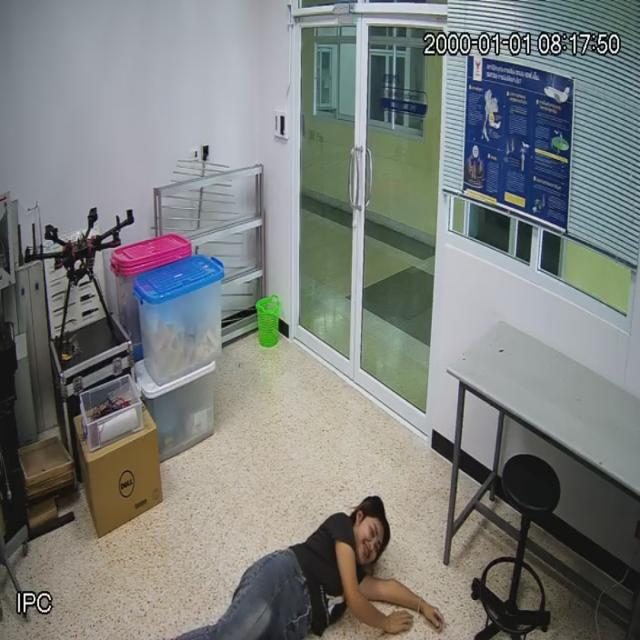fall: (177, 497, 438, 640)
